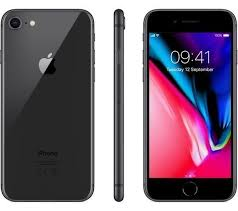iphone: (142, 6, 238, 201), (1, 6, 95, 201)
iphone10: (143, 7, 238, 202), (1, 7, 95, 202)
